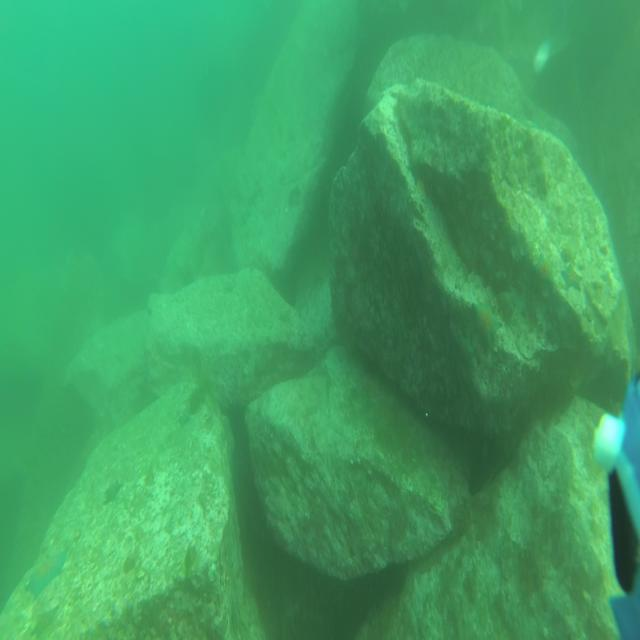echinus: (286, 184, 303, 209)
starfish: (23, 542, 72, 602), (469, 297, 504, 354), (532, 248, 556, 290), (560, 259, 584, 293), (102, 476, 124, 506), (177, 410, 192, 430), (222, 279, 236, 296), (278, 309, 291, 326)
